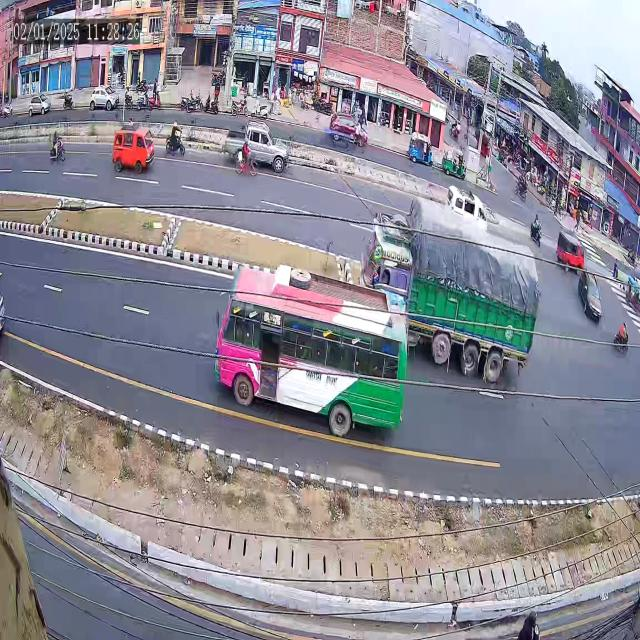bus: (203, 250, 411, 478)
motorcycle: (42, 128, 72, 170), (162, 118, 188, 162), (612, 306, 632, 358), (526, 204, 547, 251)
truck: (360, 190, 540, 392)
van: (108, 116, 156, 186), (554, 216, 588, 277)
